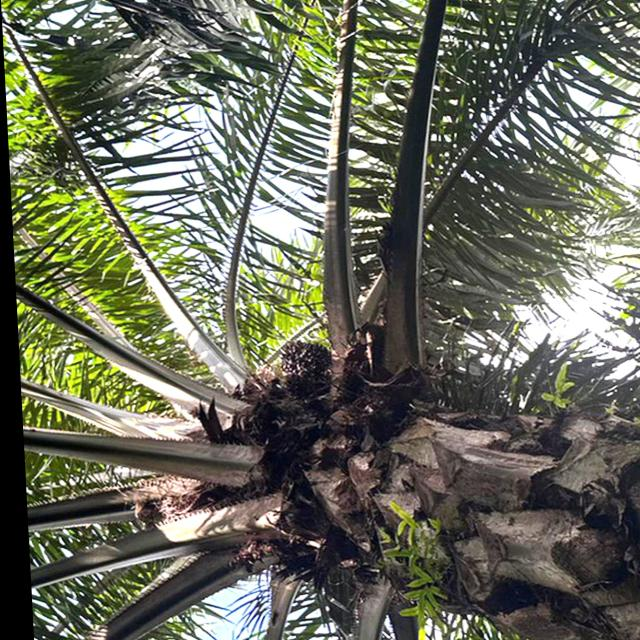almost: (270, 338, 332, 392)
